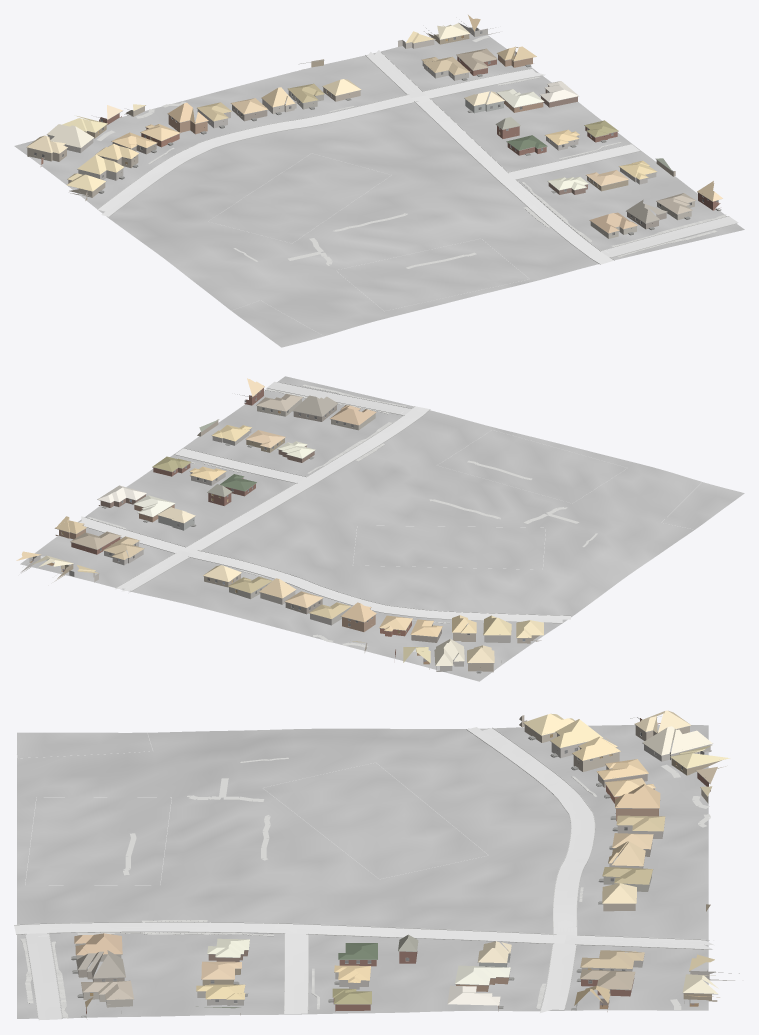
3 renders of one model, top to bottom at view 1: azimuth 30°, elevation 25°; view 2: azimuth 150°, elevation 25°; view 3: azimuth 270°, elevation 25°, orthographic. The views are drawn at different scales.
Visible parts, largest first — view 1: ground, roof, concrete, wall, asphalt, curb, walk, detail, wall_stucco, wall_stone, mark_w; view 2: ground, roof, concrete, asphalt, wall, curb, walk, wall_stucco, detail, wall_stone, mark_w; view 3: ground, roof, concrete, asphalt, wall, walk, curb, detail, wall_stucco, wall_stone, mark_w.
Part boxes in pixels (x1,y1,x2,y2): ground: (14, 27, 744, 347); roof: (26, 15, 722, 233); concrete: (98, 69, 738, 257); wall: (27, 31, 720, 229); asphalt: (367, 50, 613, 264); curb: (97, 50, 737, 264); walk: (96, 35, 726, 268); detail: (26, 21, 721, 235); wall_stucco: (68, 40, 694, 238); wall_stone: (47, 23, 656, 184); mark_w: (208, 54, 613, 334); ground: (20, 376, 744, 681); roof: (16, 378, 543, 665); concrete: (79, 381, 570, 622); asphalt: (115, 406, 429, 591); wall: (54, 388, 493, 672); curb: (84, 382, 570, 623); walk: (37, 384, 597, 651); wall_stucco: (93, 399, 541, 643); detail: (26, 387, 531, 673); wall_stone: (20, 429, 510, 671); mark_w: (118, 406, 703, 590); ground: (17, 725, 708, 1018); roof: (74, 710, 730, 1008); concrete: (26, 727, 594, 1020); asphalt: (14, 922, 714, 949); wall: (77, 718, 725, 1015); walk: (20, 757, 710, 1018); curb: (14, 727, 713, 1018); detail: (71, 716, 739, 1017); wall_stucco: (75, 715, 734, 1007); wall_stone: (197, 733, 711, 1005); mark_w: (16, 732, 708, 948).
Bounding box in the file's own units: 263 × 16.23 × 264.
